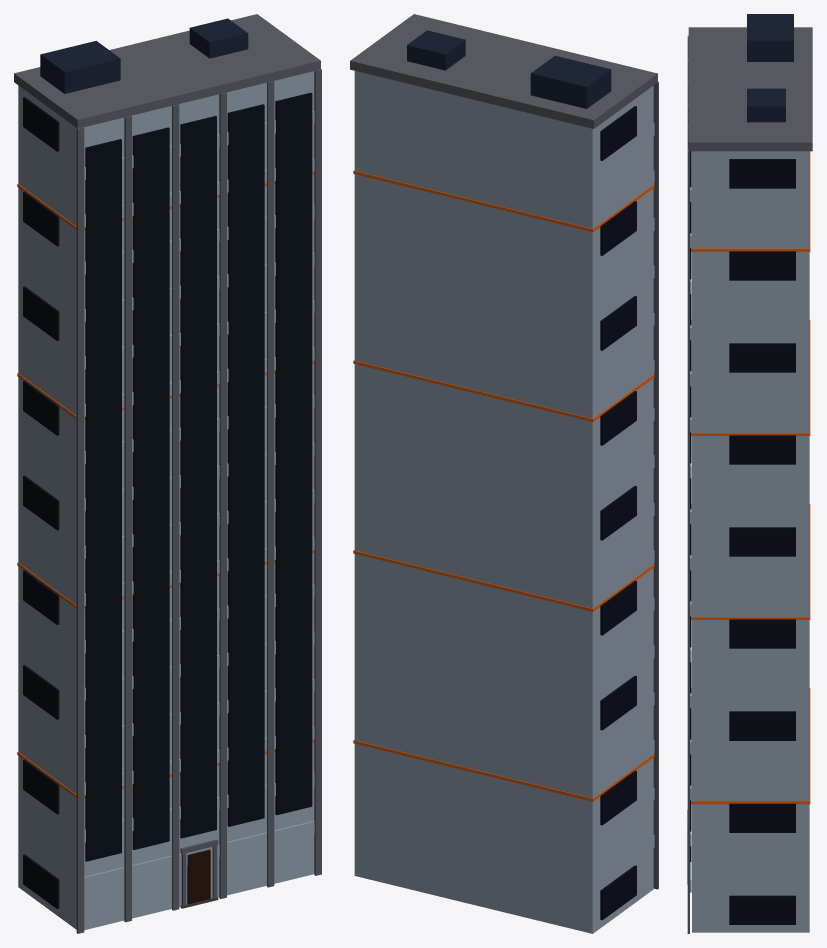
The model's file is highrise1.obj.
3 renders of one model, left to right at view 1: azimuth 30°, elevation 25°; view 2: azimuth 150°, elevation 25°; view 3: azimuth 270°, elevation 25°, orthographic. The views are drawn at different scales.
Parts seen in each view (by area): view 1: bay-glazing, body, fins, roof, end-glazing, spandrels, roof-plant, window-lights, entrance, canopy-brackets; view 2: body, roof, end-glazing, roof-plant, window-lights, fins; view 3: body, end-glazing, roof, roof-plant, window-lights, fins, spandrels, bay-glazing.
Boxes of the visible parts, x1,y1,x2,y2 form: bay-glazing: (85,92,312,861); body: (18,71,314,930); fins: (76,69,321,933); roof: (14,14,320,128); end-glazing: (23,97,59,908); spandrels: (84,111,314,889); roof-plant: (40,18,248,93); window-lights: (17,171,314,798); entrance: (187,849,210,904); canopy-brackets: (181,843,217,906); body: (354,71,653,933); roof: (350,14,657,128); end-glazing: (600,106,636,920); roof-plant: (407,30,611,108); window-lights: (353,170,654,801); fins: (653,82,658,889); body: (692,151,809,932); end-glazing: (729,159,795,924); roof: (688,27,812,151); roof-plant: (747,14,793,122); window-lights: (691,151,810,804); fins: (687,35,689,933); spandrels: (690,151,691,892); bay-glazing: (690,151,691,861).
Size of the model in its own units: 6.98 by 22.84 by 3.2.
